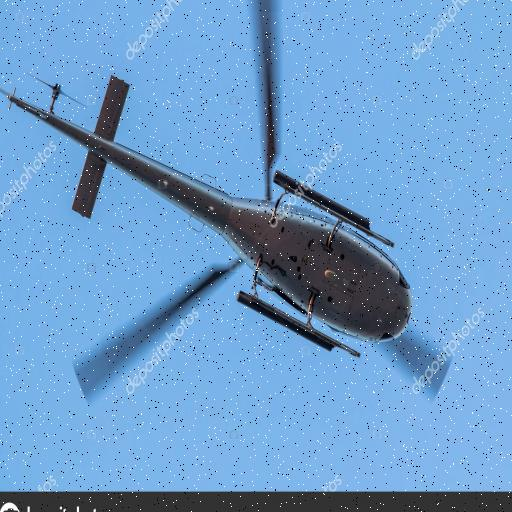helicopter: (1, 1, 452, 409)
